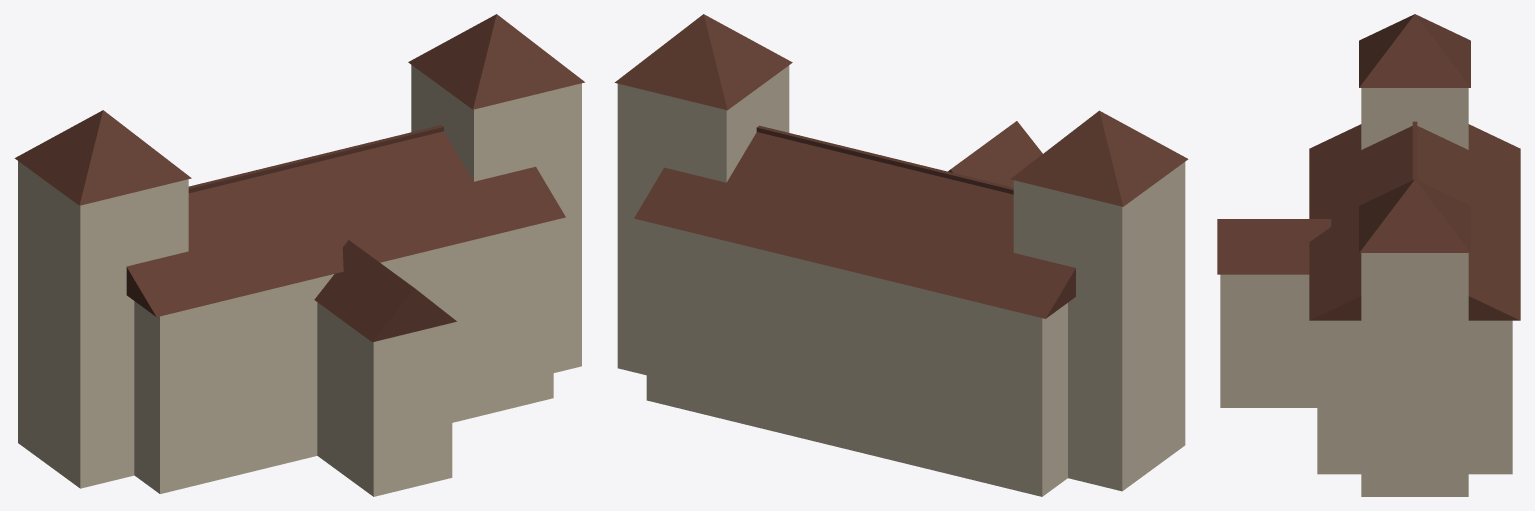
File: palace.glb
3 renders of one model, left to right at view 1: azimuth 30°, elevation 25°; view 2: azimuth 150°, elevation 25°; view 3: azimuth 270°, elevation 25°, orthographic. The views are drawn at different scales.
Parts seen in each view (by area): view 1: palace; view 2: palace; view 3: palace.
Boxes of the visible parts, box(x1,y1,x2,y2) form: palace: box(14, 14, 584, 496); palace: box(614, 14, 1188, 496); palace: box(1217, 14, 1520, 496).
Bounding box in the file's own units: 34 × 22 × 20.51.
